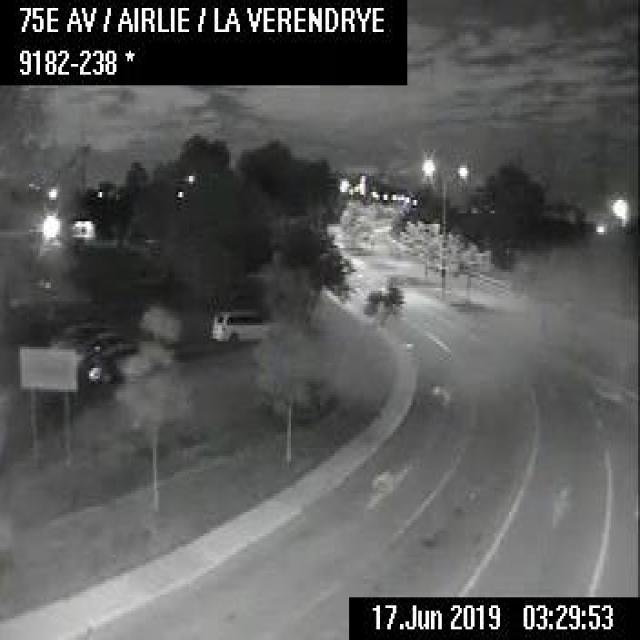vehicle: (208, 306, 272, 342), (85, 342, 139, 383)
